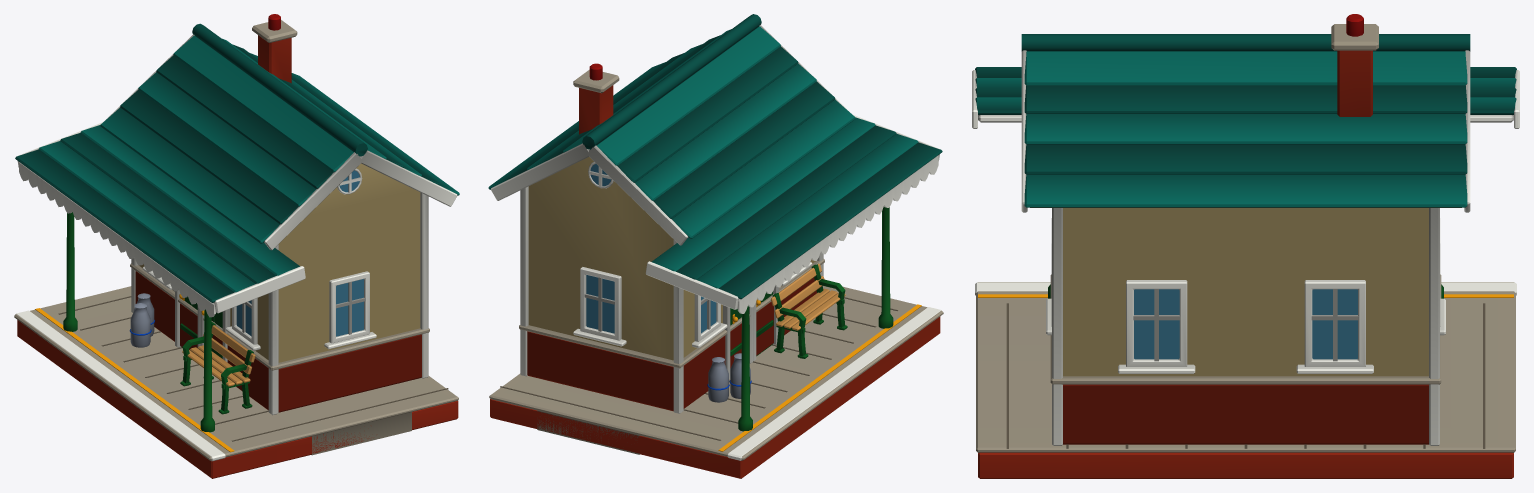
File: Station.fbx
The picture shows the model from 3 angles, left to right: view 1: azimuth 30°, elevation 25°; view 2: azimuth 150°, elevation 25°; view 3: azimuth 270°, elevation 25°; orthographic projection. The views are drawn at different scales.
Visible parts, largest first — view 1: Station; view 2: Station; view 3: Station.
Boxes of the visible parts, box(x1,y1,x2,y2) form: Station: box(14, 14, 459, 478); Station: box(488, 14, 943, 478); Station: box(972, 14, 1519, 478).
Bounding box in the file's own units: 4.29 × 4.8 × 5.52.
